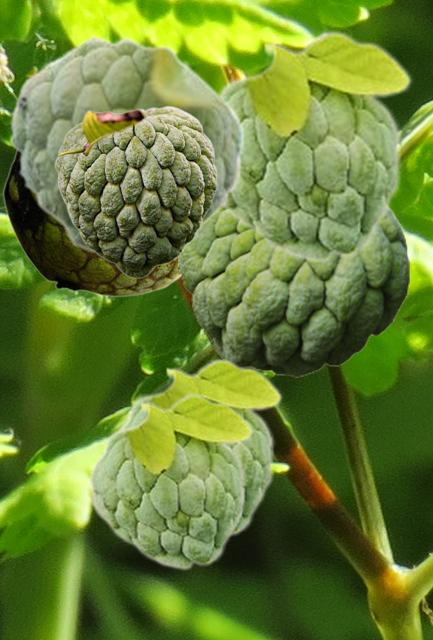atis: (9, 36, 245, 255), (217, 29, 412, 263), (178, 207, 409, 376), (87, 392, 253, 570), (118, 357, 282, 537), (54, 105, 216, 277), (2, 150, 180, 296)
